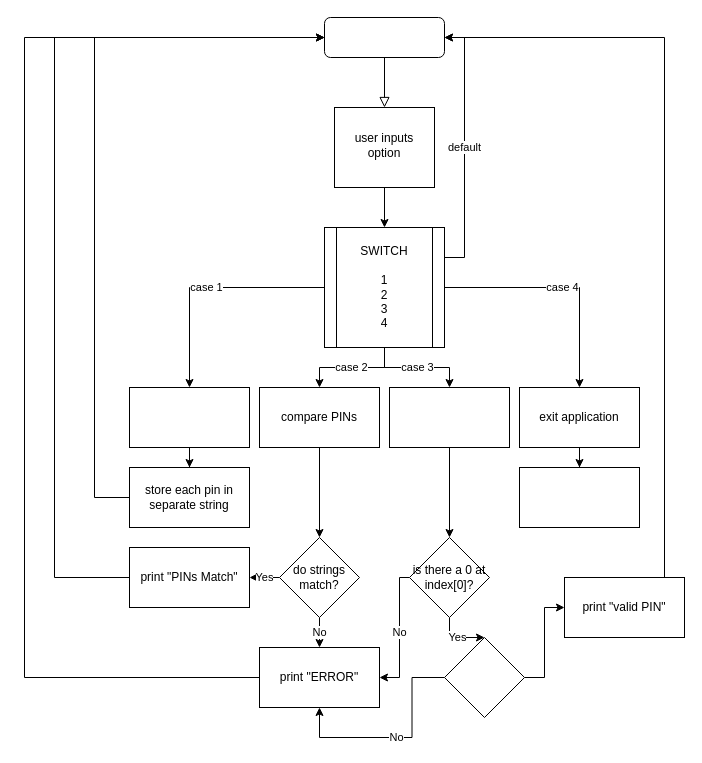
The diagram is 702 pixels wide and 763 high, and some of its shapes have lost their labels. Here are the shapes that lost their labels. From the top down, the box of each, then its label:
(324, 16, 444, 58): display menu options
(128, 386, 250, 448): user inputs PIN twice
(388, 386, 510, 448): verify PINs
(518, 466, 640, 528): exit()
(444, 636, 524, 718): are there 6 digits?
